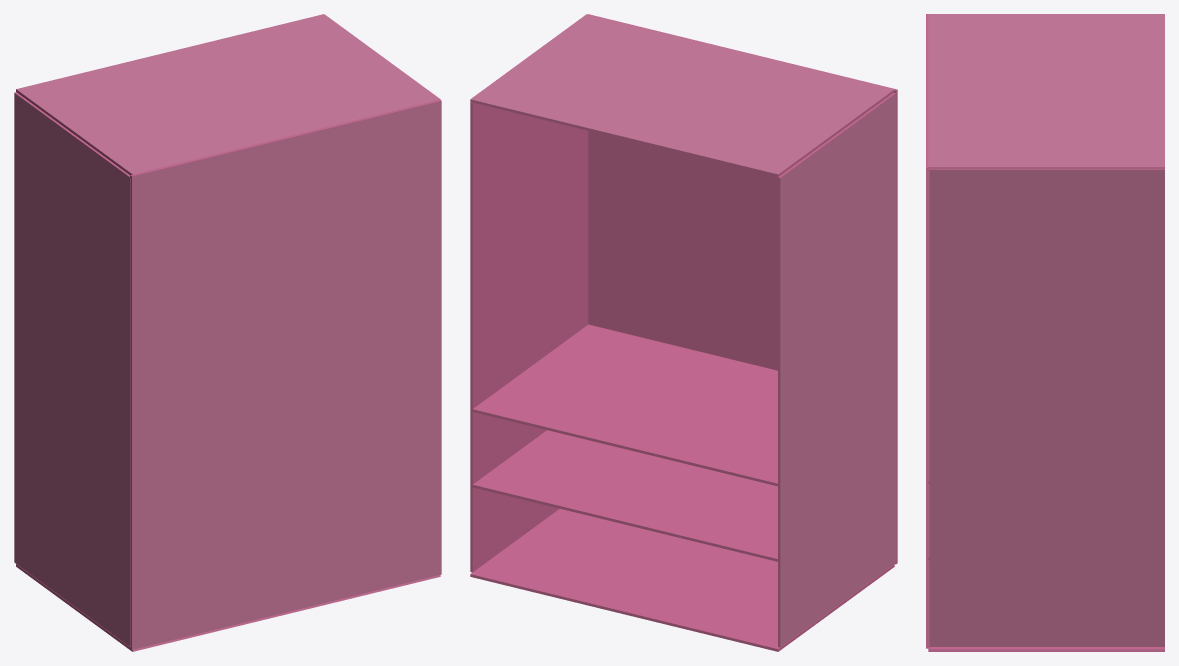
The model's file is RoperoMueble.obj.
3 views of the same model, side by side, from view 1: azimuth 30°, elevation 25°; view 2: azimuth 150°, elevation 25°; view 3: azimuth 270°, elevation 25° (orthographic).
Parts seen in each view (by area): view 1: pasted__group4_pasted__pCube2 group105; view 2: pasted__group4_pasted__pCube2 group105; view 3: pasted__group4_pasted__pCube2 group105.
Boxes of the visible parts, x1=… form: pasted__group4_pasted__pCube2 group105: x1=14, y1=14, x2=441, y2=651; pasted__group4_pasted__pCube2 group105: x1=470, y1=14, x2=897, y2=651; pasted__group4_pasted__pCube2 group105: x1=926, y1=14, x2=1164, y2=651.
Bounding box in the file's own units: 0.8005 × 1.18 × 0.5261.
Materials: 1 (1 with a texture image).
